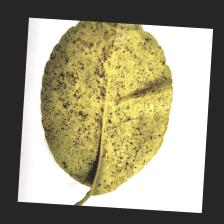canker: (50, 59, 140, 158)
